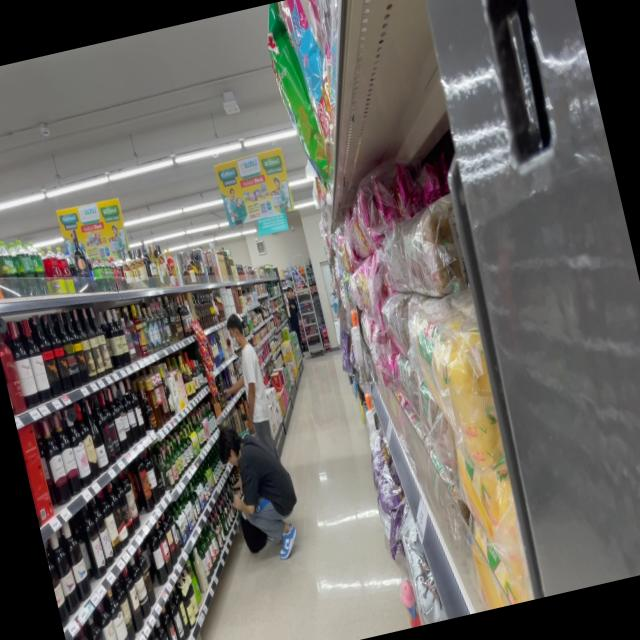shoplifting: (216, 414, 310, 566)
